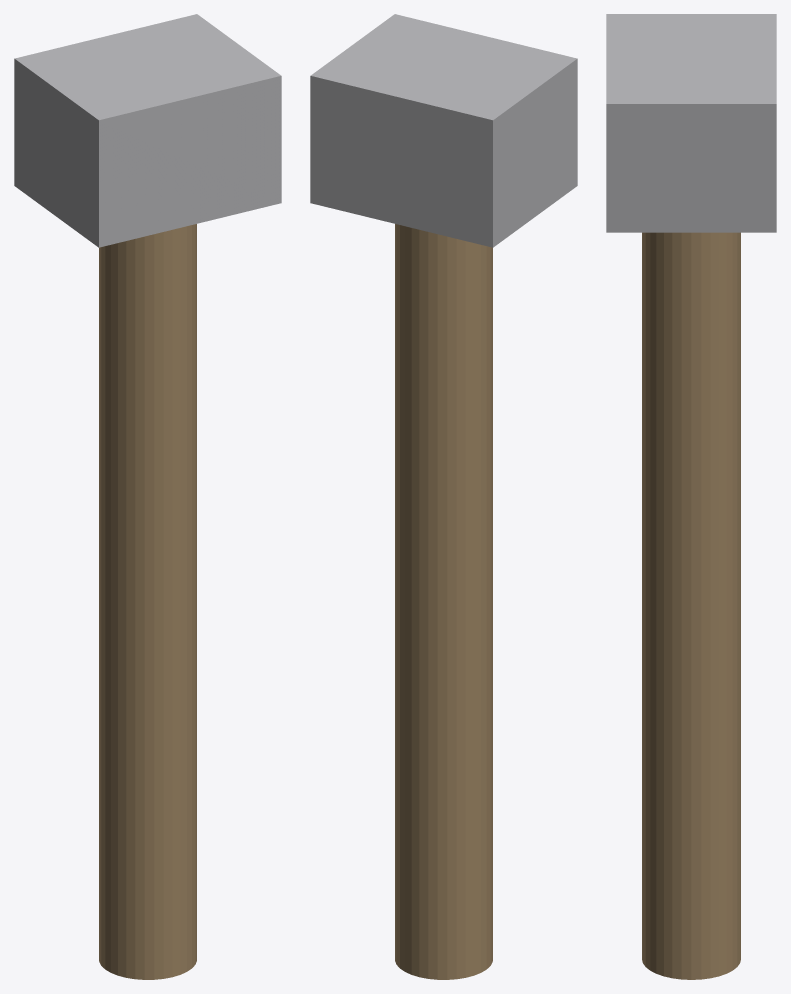
The model's file is hammer.glb.
The picture shows the model from 3 angles, left to right: view 1: azimuth 30°, elevation 25°; view 2: azimuth 150°, elevation 25°; view 3: azimuth 270°, elevation 25°; orthographic projection.
Parts seen in each view (by area): view 1: Handle, Head; view 2: Handle, Head; view 3: Handle, Head.
Part boxes in pixels (box(x1,y1,x2,y2)): Handle: box(99, 224, 196, 979); Head: box(14, 14, 281, 247); Handle: box(395, 224, 492, 979); Head: box(310, 14, 577, 247); Handle: box(642, 232, 740, 979); Head: box(606, 14, 776, 232).
Bounding box in the file's own units: 0.15 × 0.7 × 0.12.
